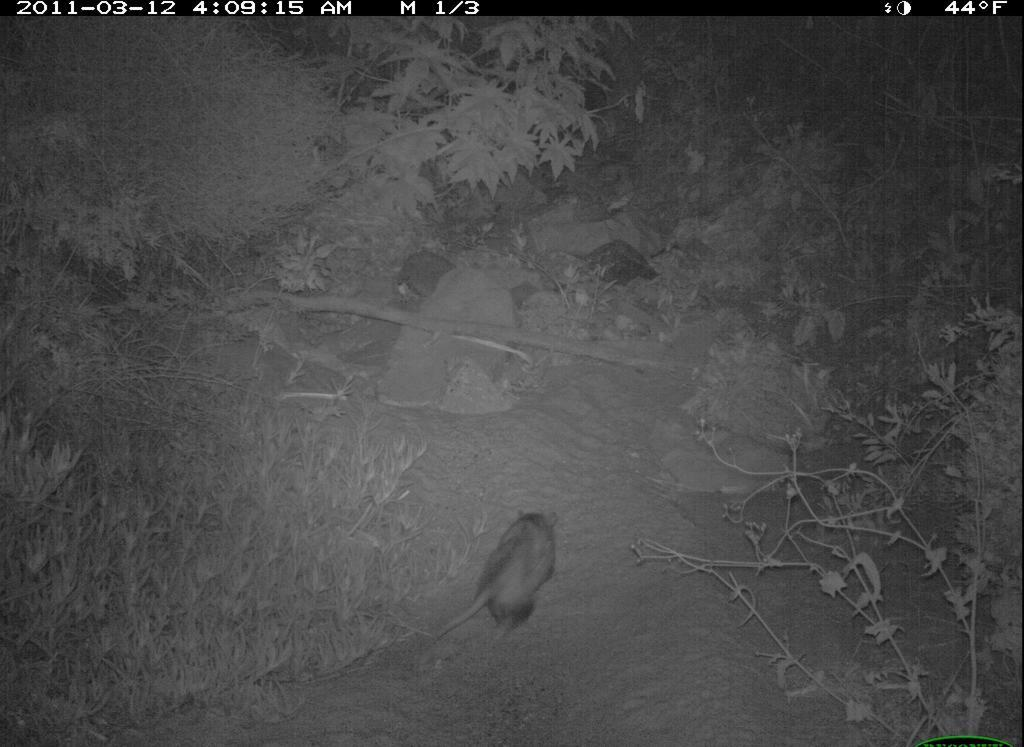opossum: (433, 507, 575, 649)
